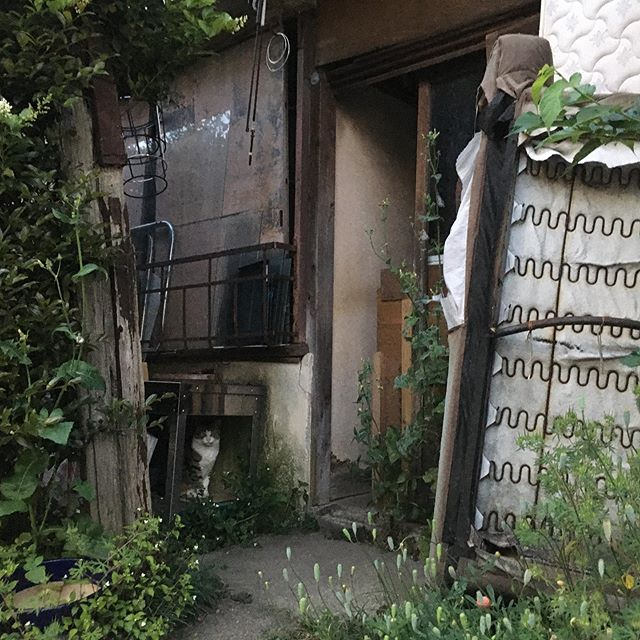door: (303, 55, 508, 554)
trash: (79, 36, 323, 589), (446, 32, 640, 640)
